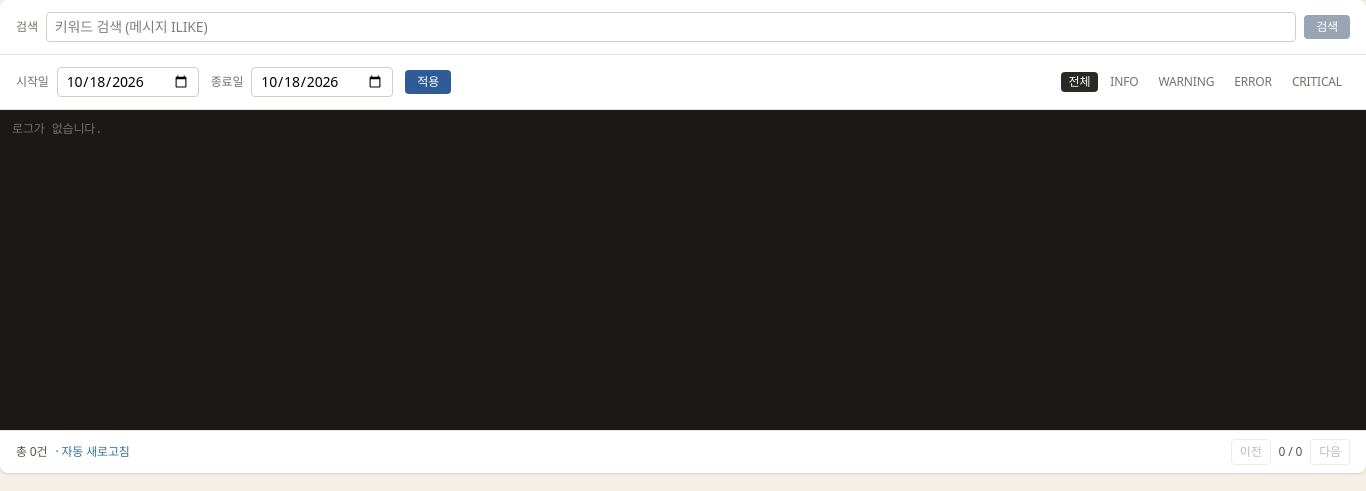
Test: SystemLogsTab — 검색 박스 (사이클 6 통합, 2026-05-20) › 검색 결과 행 렌더 + 검색 모드 진입 (초기화 버튼 노출)
Type "ERROR_KEY" into the field with test id "system-logs-search-input" at (671, 27), box [46, 12, 1296, 42]
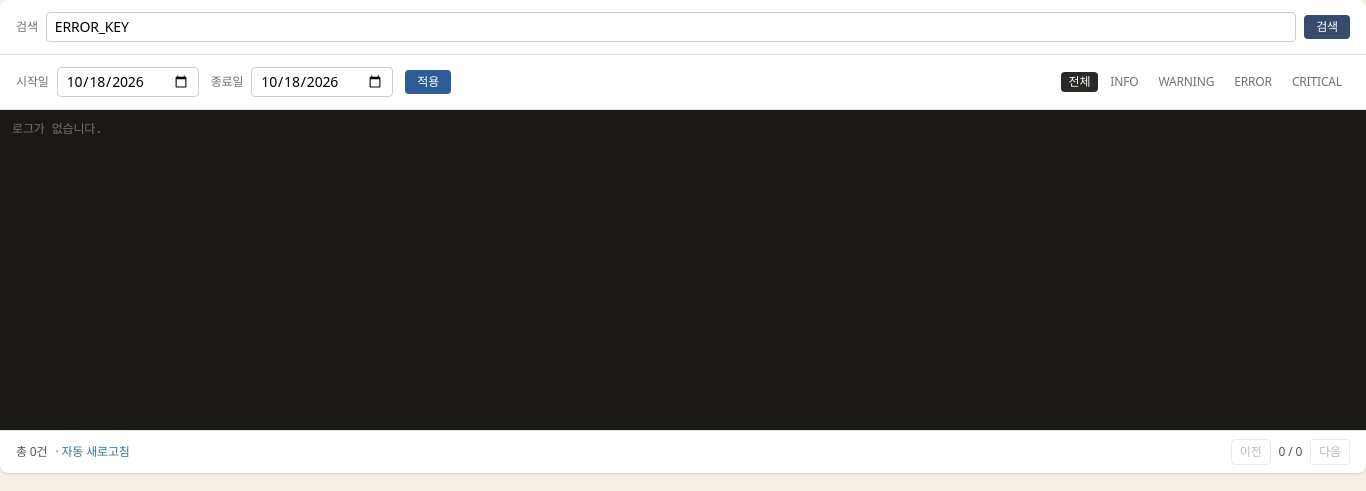
Click the button with test id "system-logs-search-button" at (1327, 27), box [1304, 15, 1350, 39]
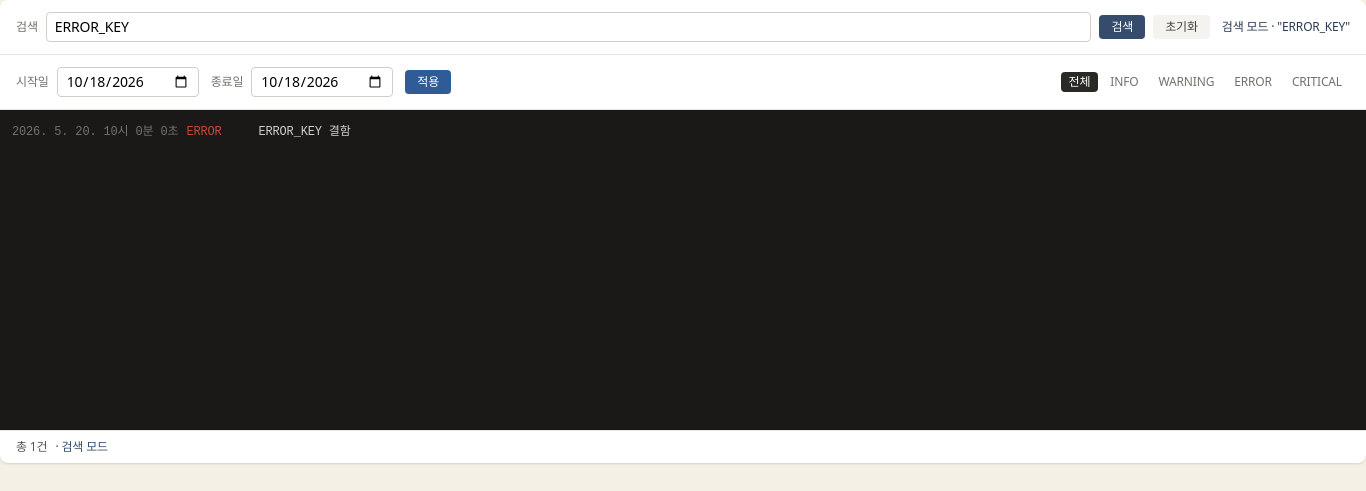
Now the element with test id "system-logs-body" shows "ERROR_KEY", box [258, 125, 351, 139]
Now the button with test id "system-logs-search-clear" is shown, box [1153, 15, 1210, 39]
